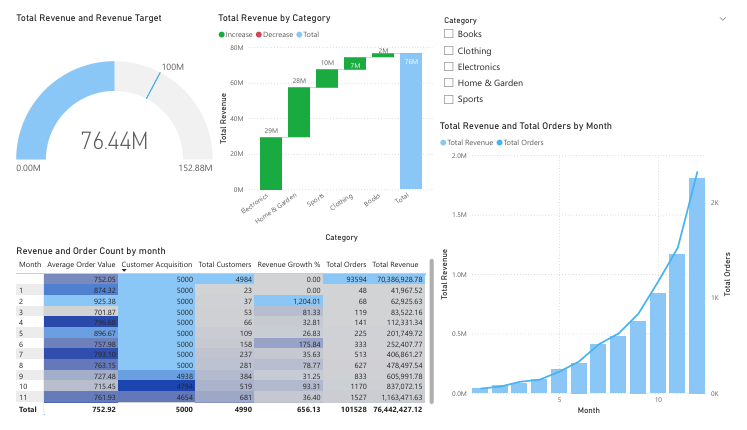

Layout of this report page (visuals, bound fields, positions):
{"tool":"powerbi","page":{"name":"Sales Performance","canvas":[1280,720],"ordinal":1},"visuals":[{"type":"lineClusteredColumnComboChart","fields":{"Category":["calendar.Month"],"Y":["_Measures.Total Revenue"],"Y2":["_Measures.Total Orders"]},"box":[753.1,191.5,527,528.5],"z":0},{"type":"waterfallChart","fields":{"Category":["products.Category"],"Y":["_Measures.Total Revenue"]},"box":[358.6,0,394.6,413.3],"z":1000},{"type":"pivotTable","title":"Revenue and Order Count by month","fields":{"Rows":["calendar.Month"],"Values":["_Measures.Average Order Value","_Measures.Customer Acquisition","_Measures.Total Customers","_Measures.Revenue Growth %","_Measures.Total Orders","_Measures.Total Revenue"]},"box":[0,413.3,753.1,306.7],"z":2000},{"type":"gauge","fields":{"Y":["_Measures.Total Revenue"],"TargetValue":["_Measures.Revenue Target"]},"box":[0,0,358.6,360],"z":3000},{"type":"slicer","fields":{"Values":["products.Category"]},"box":[753.1,0,527,191.5],"z":4000}]}

Visuals, with their boxes in screenshot pixels (x1, y1, x2, y2), scaled from the page's 1280x720 canvas onto the 747x430 screenshot:
lineClusteredColumnComboChart - calendar.Month x _Measures.Total Revenue: 440,114,746,429
waterfallChart - products.Category x _Measures.Total Revenue: 209,0,440,247
"Revenue and Order Count by month" pivotTable: 0,247,440,429
gauge - _Measures.Total Revenue x _Measures.Revenue Target: 0,0,209,215
slicer - products.Category: 440,0,746,114
